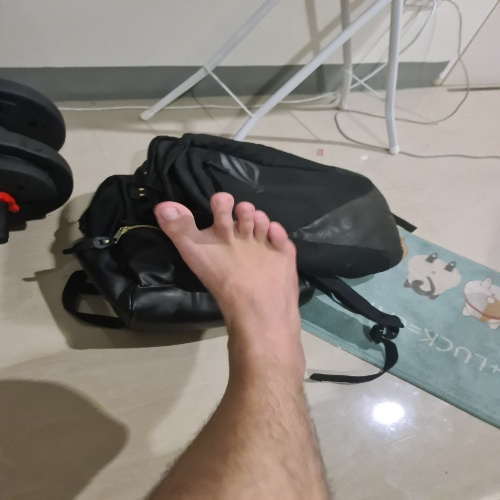3: (152, 198, 204, 246)
Top_Foot: (154, 192, 305, 382)
